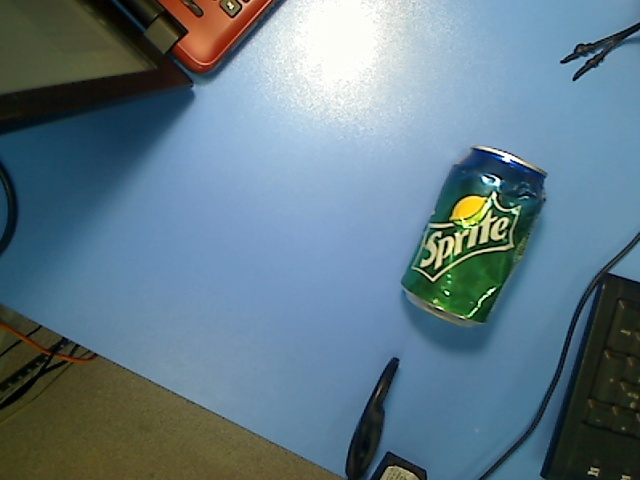can: (398, 143, 551, 332)
